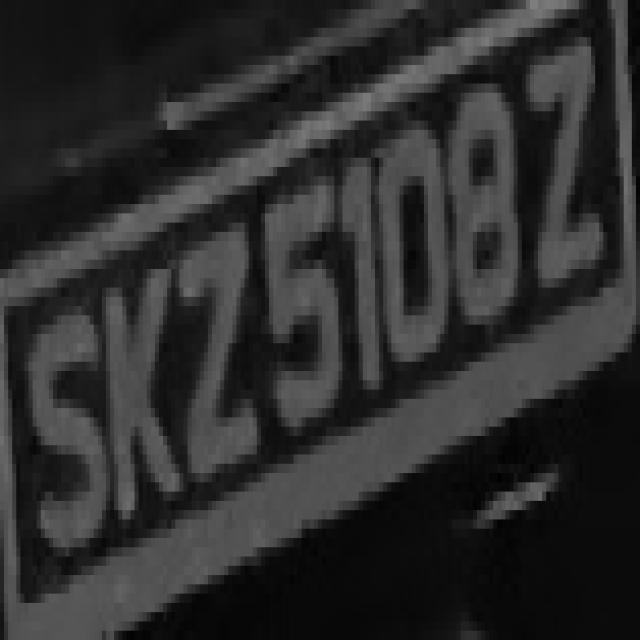0: (375, 121, 453, 380)
1: (331, 148, 392, 446)
5: (257, 185, 338, 464)
8: (432, 83, 514, 362)
K: (94, 260, 183, 538)
S: (8, 297, 106, 575)
Z: (163, 204, 257, 501), (526, 37, 615, 306)
